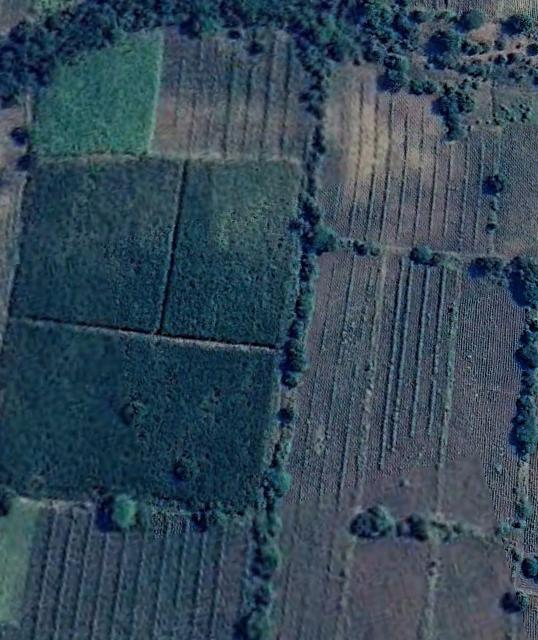Farms: (358, 252, 538, 542), (3, 322, 276, 512), (257, 244, 386, 640), (308, 52, 499, 253), (15, 507, 251, 640), (16, 157, 185, 338), (159, 162, 304, 351), (155, 15, 319, 157), (36, 15, 166, 166), (424, 539, 516, 640), (343, 536, 432, 640)
